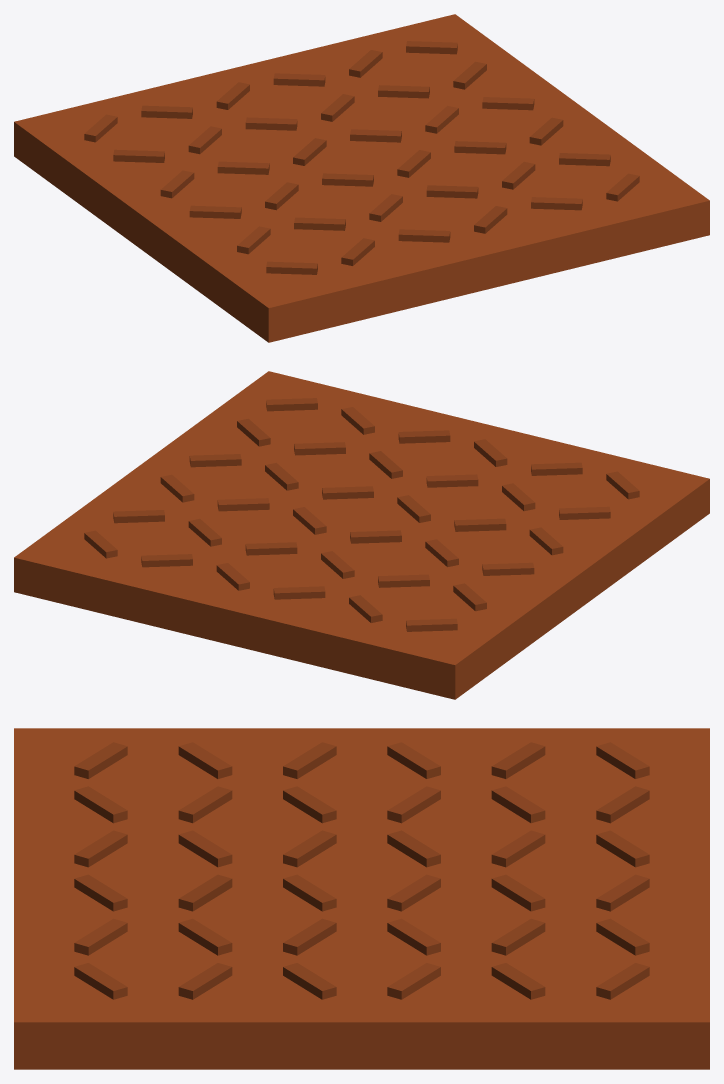
Rendered from copper_plate.glb.
3 views of the same model, one above another, from view 1: azimuth 30°, elevation 25°; view 2: azimuth 150°, elevation 25°; view 3: azimuth 270°, elevation 25° (orthographic). The views are drawn at different scales.
Visible parts, largest first — view 1: Mesh; view 2: Mesh; view 3: Mesh.
Boxes of the visible parts, x1=… form: Mesh: x1=14, y1=14, x2=709, y2=342; Mesh: x1=14, y1=371, x2=709, y2=699; Mesh: x1=14, y1=728, x2=709, y2=1069.
Bounding box in the file's own units: 0.8 × 0.071 × 0.8.
